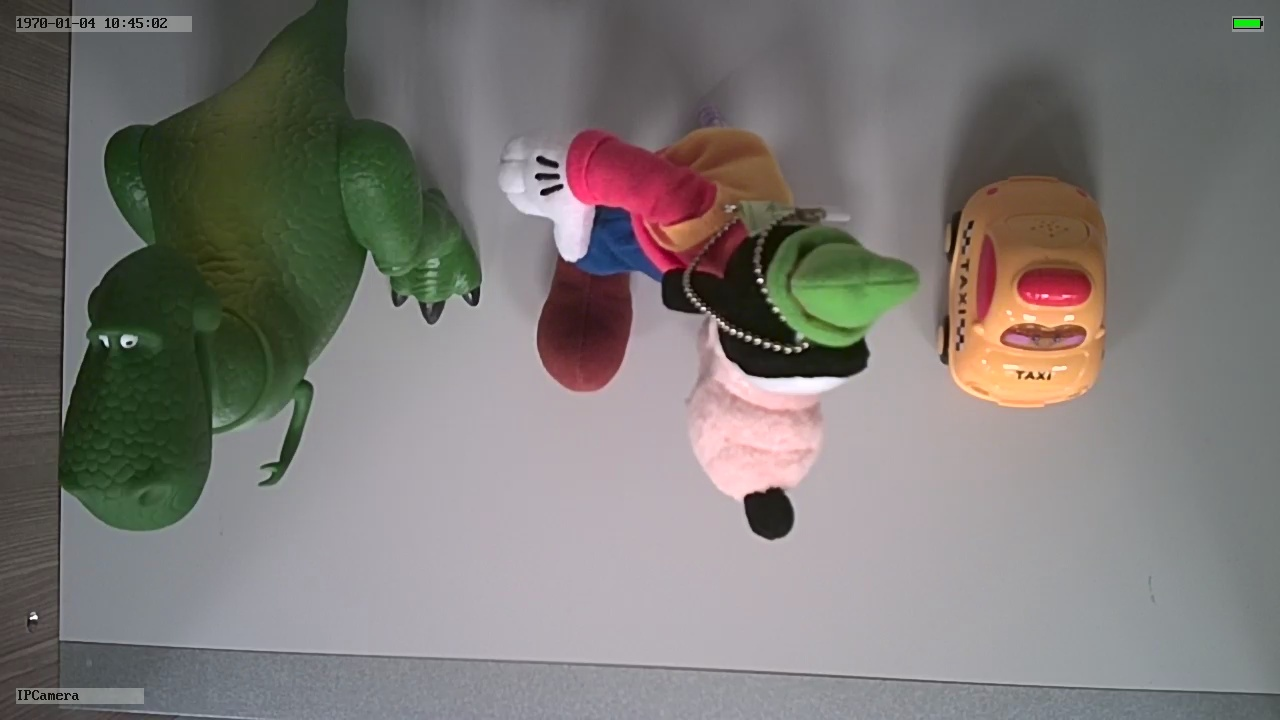car: (938, 164, 1110, 410)
goofy: (496, 120, 923, 542)
rex: (56, 73, 481, 535)
